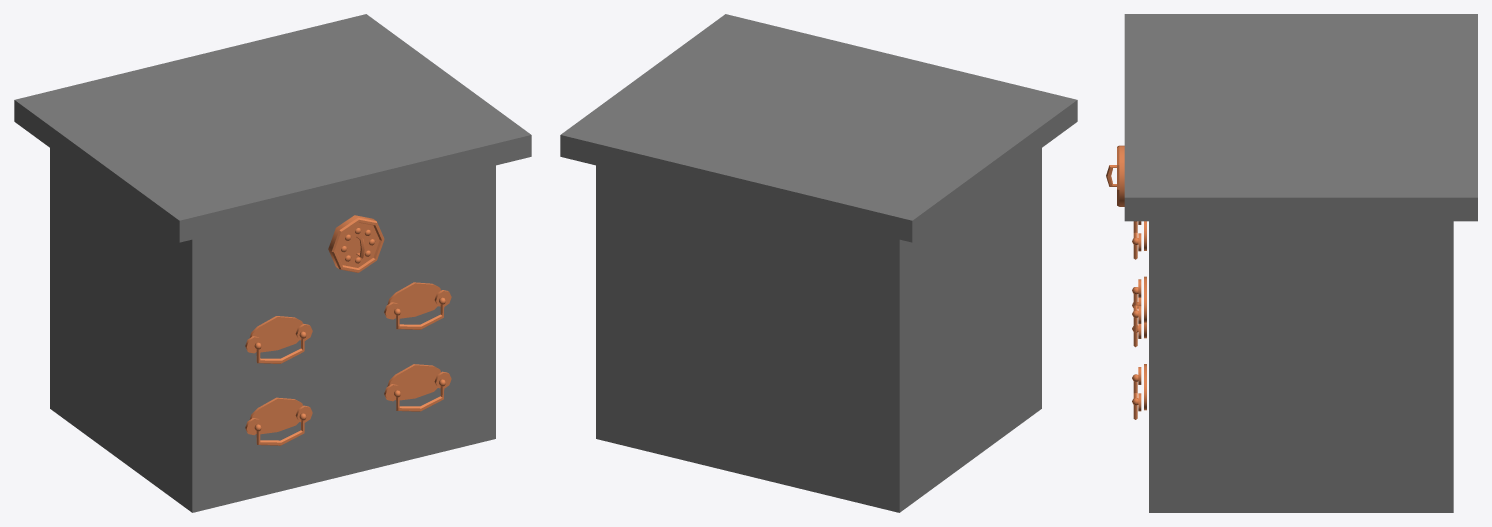
Rendered from OBJ_drawer.fbx.
3 views of the same model, side by side, from view 1: azimuth 30°, elevation 25°; view 2: azimuth 150°, elevation 25°; view 3: azimuth 270°, elevation 25° (orthographic). The views are drawn at different scales.
Parts seen in each view (by area): view 1: Box043, Cylinder003; view 2: Box043; view 3: Box043, Cylinder003.
Part boxes in pixels (x1=…): Box043: x1=14, y1=14, x2=531, y2=512; Cylinder003: x1=245, y1=215, x2=451, y2=445; Box043: x1=560, y1=14, x2=1077, y2=512; Box043: x1=1124, y1=14, x2=1477, y2=512; Cylinder003: x1=1106, y1=145, x2=1146, y2=419.
Size of the model in its own units: 84.63 by 70.42 by 72.4.
